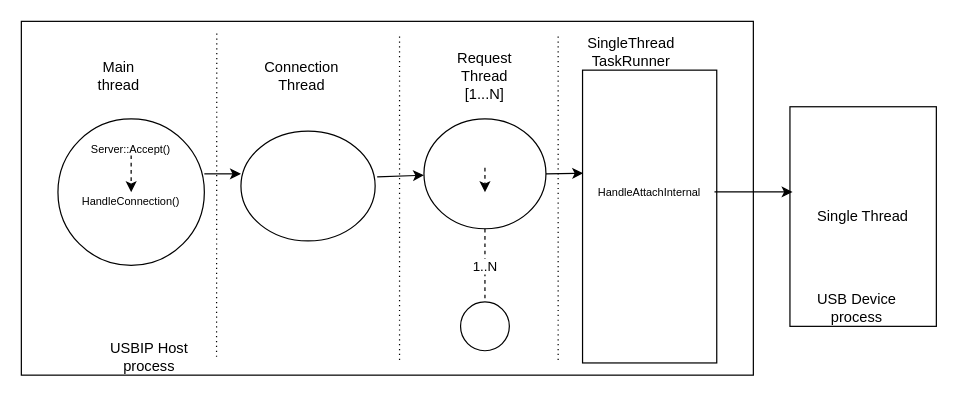
This 958x397 diagram has some shape labels left out. Each missing label, with the centre of its shape:
"Handle InConnection Thread()" belongs at [307,185].
"HandleUsbIp Request() HandleAttach" belongs at [484,173].
